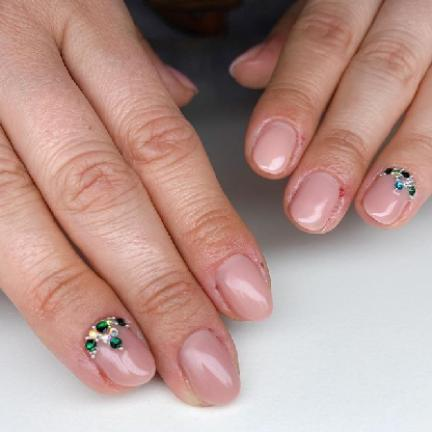Nail: (85, 316, 155, 386), (179, 330, 240, 404), (216, 254, 273, 321), (363, 167, 416, 225), (289, 172, 340, 231), (252, 121, 297, 174)
